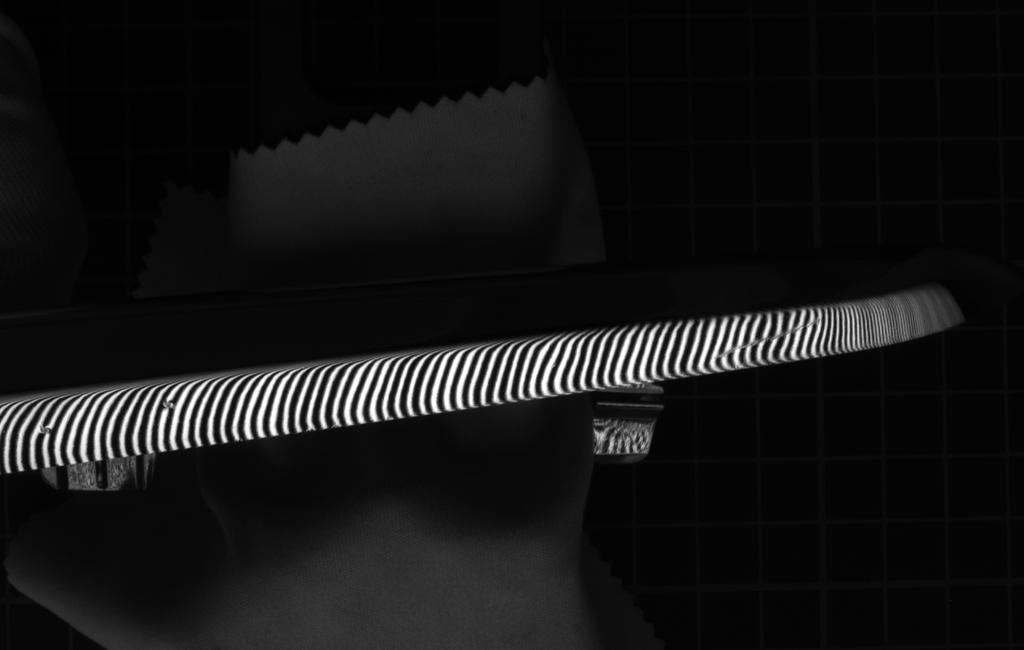Pierced: (158, 397, 181, 414), (35, 424, 59, 438)
Scratch: (707, 310, 834, 368)
